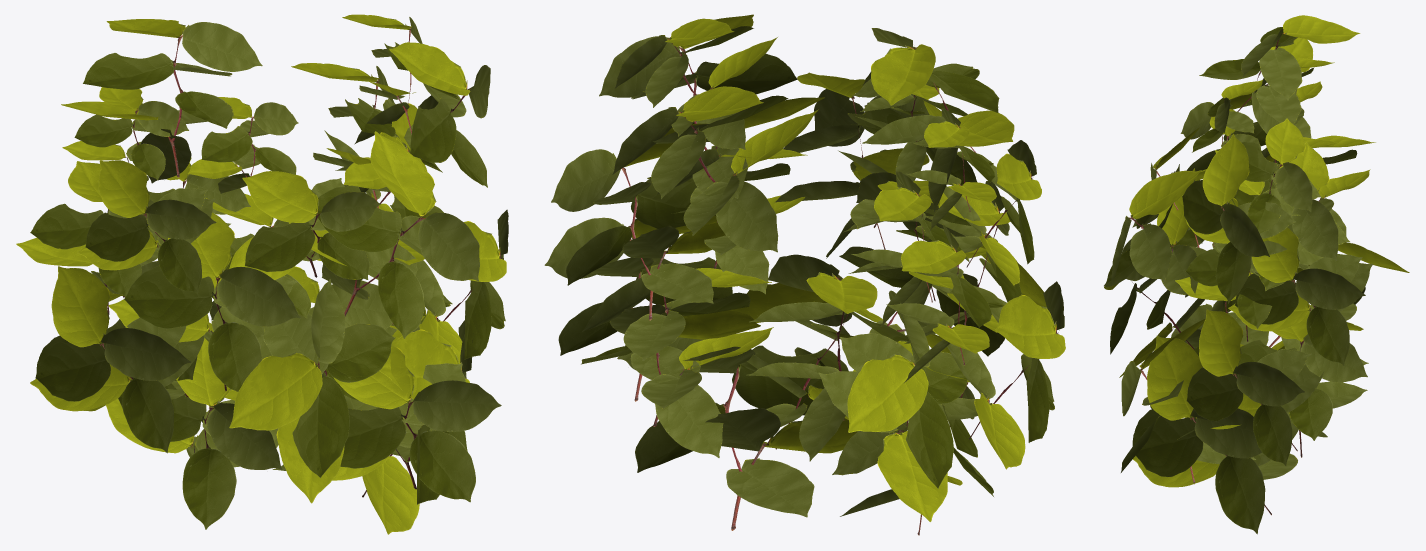
The model's file is PNW Plant_A_Medium_1k.glb.
3 views of the same model, side by side, from view 1: azimuth 30°, elevation 25°; view 2: azimuth 150°, elevation 25°; view 3: azimuth 270°, elevation 25° (orthographic). The views are drawn at different scales.
Parts seen in each view (by area): view 1: Plant_A_Medium_1k; view 2: Plant_A_Medium_1k; view 3: Plant_A_Medium_1k.
Part boxes in pixels (x1,y1,x2,y2): Plant_A_Medium_1k: [16, 14, 508, 534]; Plant_A_Medium_1k: [544, 14, 1065, 535]; Plant_A_Medium_1k: [1104, 15, 1409, 534].
Bounding box in the file's own units: 1.26 × 1.3 × 0.8867.
1 material, 1 textured.
